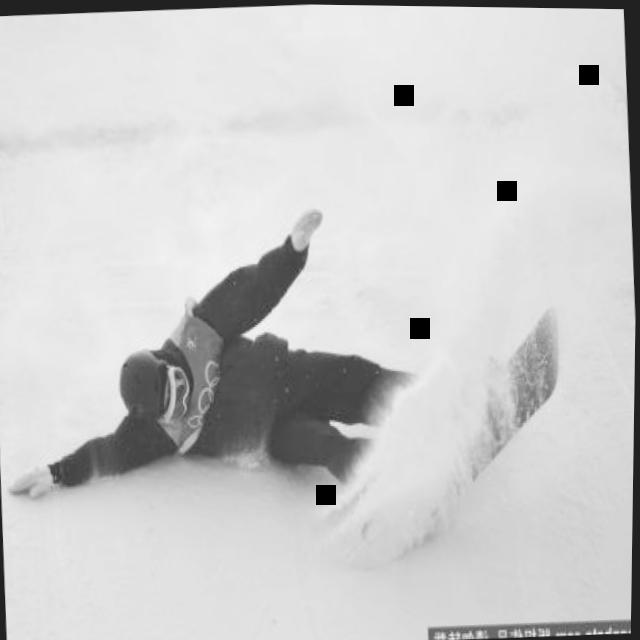Fall-Detected: (0, 180, 421, 516)
